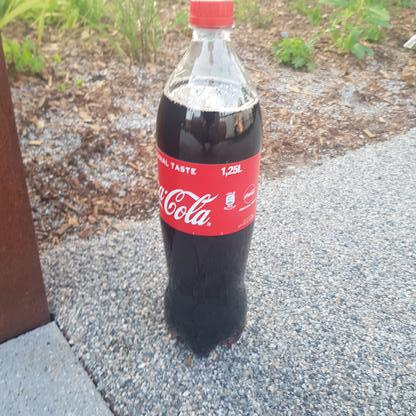coca-cola: (153, 1, 265, 358)
